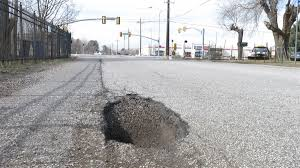pothole: (75, 85, 212, 155)
